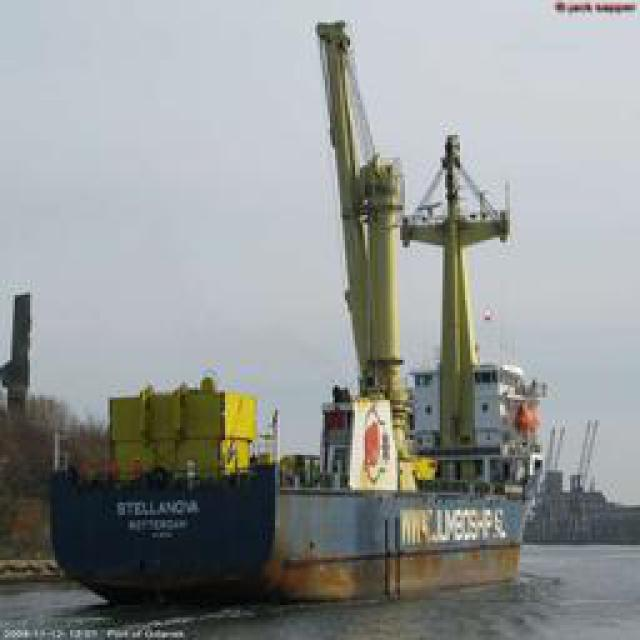Ship: (45, 311, 560, 607)
